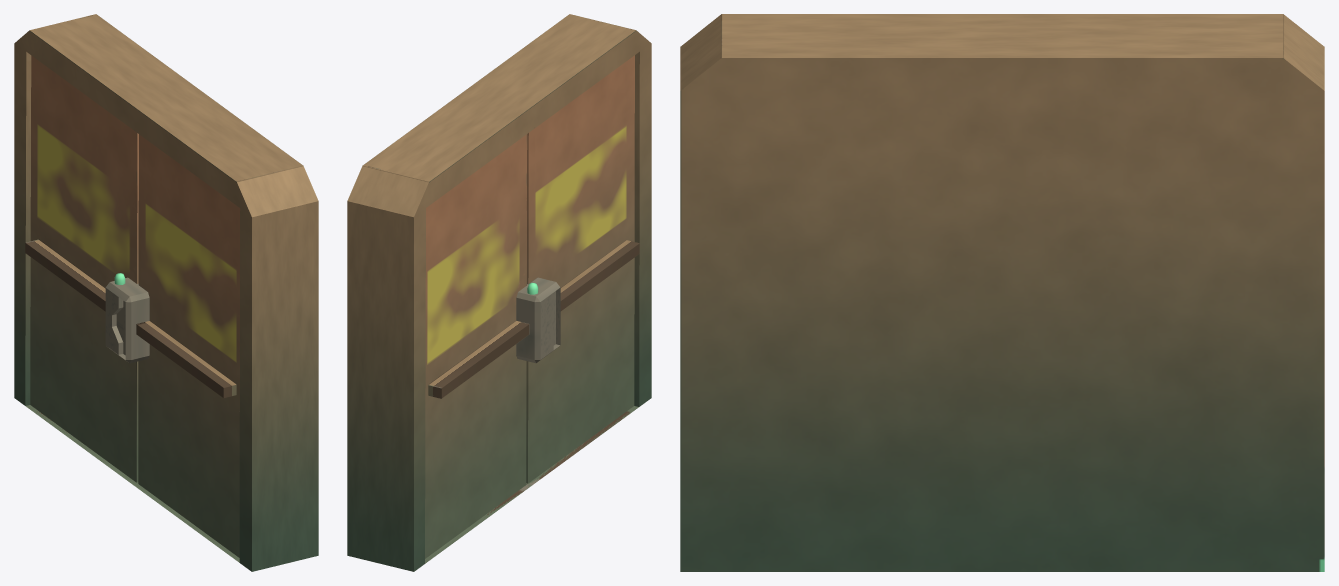
File: Locked_Door.fbx
3 renders of one model, left to right at view 1: azimuth 30°, elevation 25°; view 2: azimuth 150°, elevation 25°; view 3: azimuth 270°, elevation 25°, orthographic. The views are drawn at different scales.
Parts seen in each view (by area): view 1: Locked_Door; view 2: Locked_Door; view 3: Locked_Door.
Boxes of the visible parts, bbox=[...] form: Locked_Door: bbox=[14, 14, 318, 571]; Locked_Door: bbox=[347, 14, 651, 571]; Locked_Door: bbox=[680, 14, 1324, 571].
Size of the model in its own units: 36.93 by 159 by 180.
